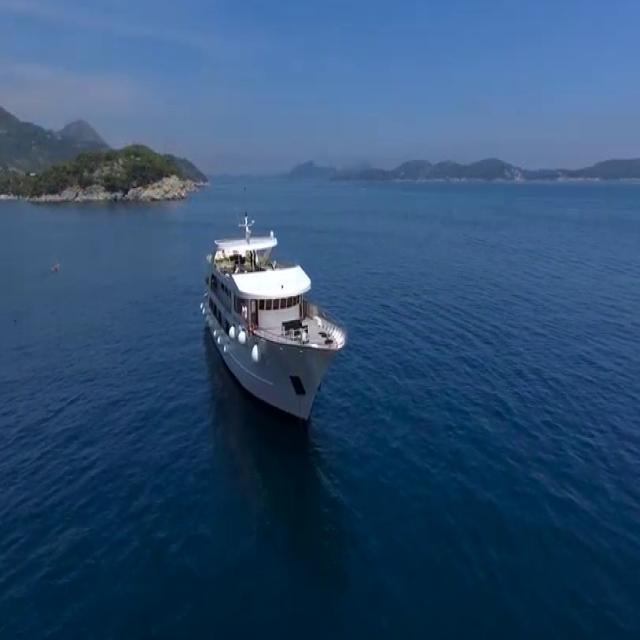passenger ship: (202, 211, 360, 425)
